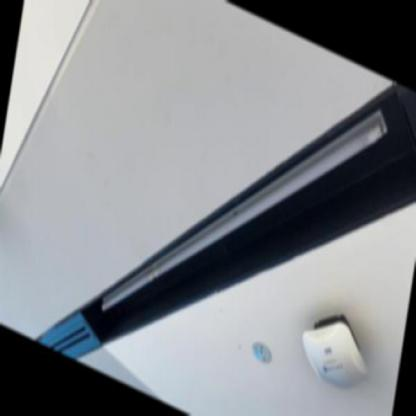light_off: (92, 0, 394, 415)
